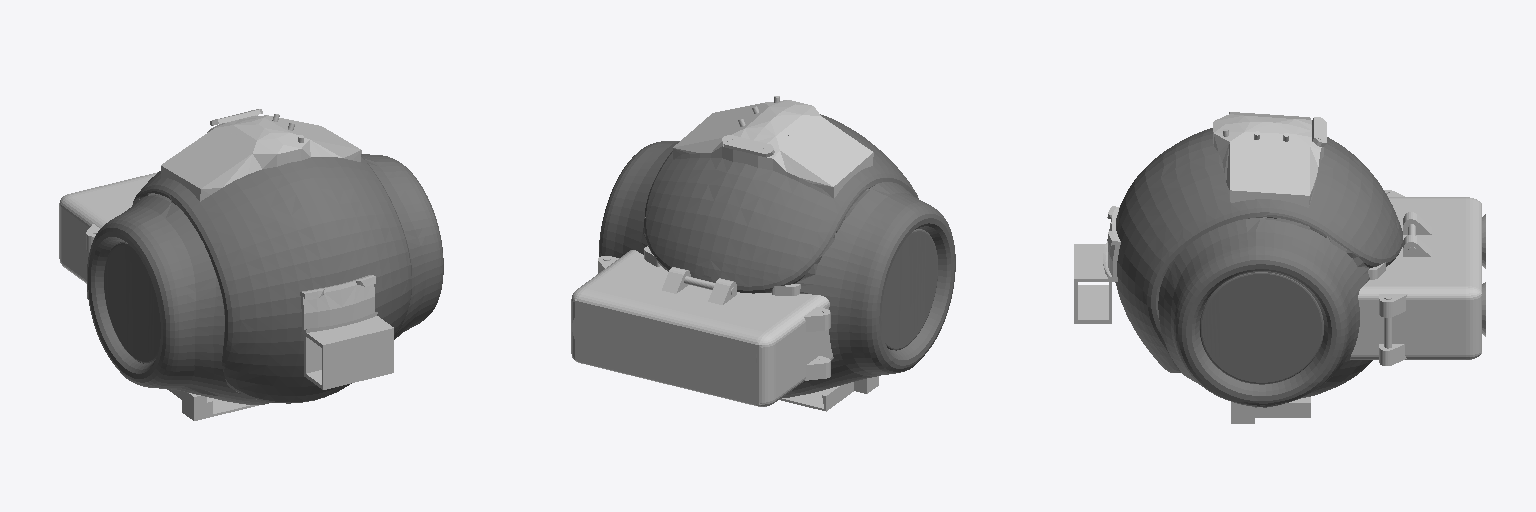
The model's file is headgear.obj.
3 views of the same model, side by side, from view 1: azimuth 30°, elevation 25°; view 2: azimuth 150°, elevation 25°; view 3: azimuth 270°, elevation 25° (orthographic).
Visible parts, largest first — view 1: Head, HeadPlate_Head.002, BackPlate_Head.001, Vive_Cube, Transmitter_Cube.008; view 2: Head, Vive_Cube, HeadPlate_Head.002, Face_Head.003, LensCavity_Cube.002, Transmitter_Cube.008, MountTop_Cube.003, Strapholder_Head.005; view 3: Head, Vive_Cube, HeadPlate_Head.002, BackPlate_Head.001, Transmitter_Cube.008.
Part boxes in pixels (x1,y1,x2,y2): Head: (87, 154, 443, 404); HeadPlate_Head.002: (161, 115, 361, 201); BackPlate_Head.001: (300, 275, 393, 389); Vive_Cube: (59, 172, 157, 298); Transmitter_Cube.008: (167, 389, 258, 420); Head: (599, 114, 955, 398); Vive_Cube: (571, 250, 833, 406); HeadPlate_Head.002: (673, 100, 873, 198); Face_Head.003: (639, 217, 847, 361); LensCavity_Cube.002: (572, 308, 757, 392); Transmitter_Cube.008: (779, 376, 878, 411); MountTop_Cube.003: (662, 272, 736, 304); Strapholder_Head.005: (722, 135, 774, 157); Head: (1115, 128, 1402, 407); Vive_Cube: (1350, 190, 1481, 365); HeadPlate_Head.002: (1213, 112, 1323, 207); BackPlate_Head.001: (1074, 206, 1120, 323); Transmitter_Cube.008: (1231, 397, 1310, 423).
Bounding box in the file's own units: 0.1327 × 0.1231 × 0.1687.